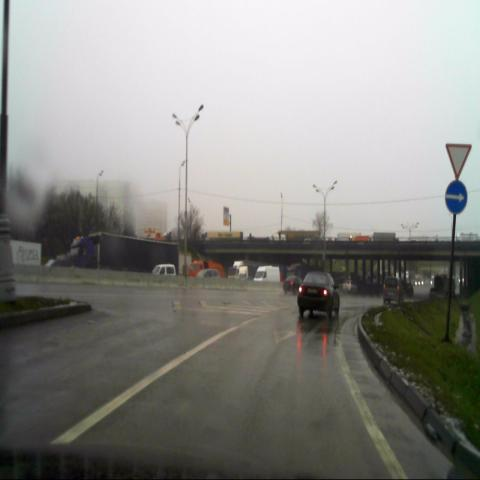4_1_2_1: (446, 181, 468, 215)
